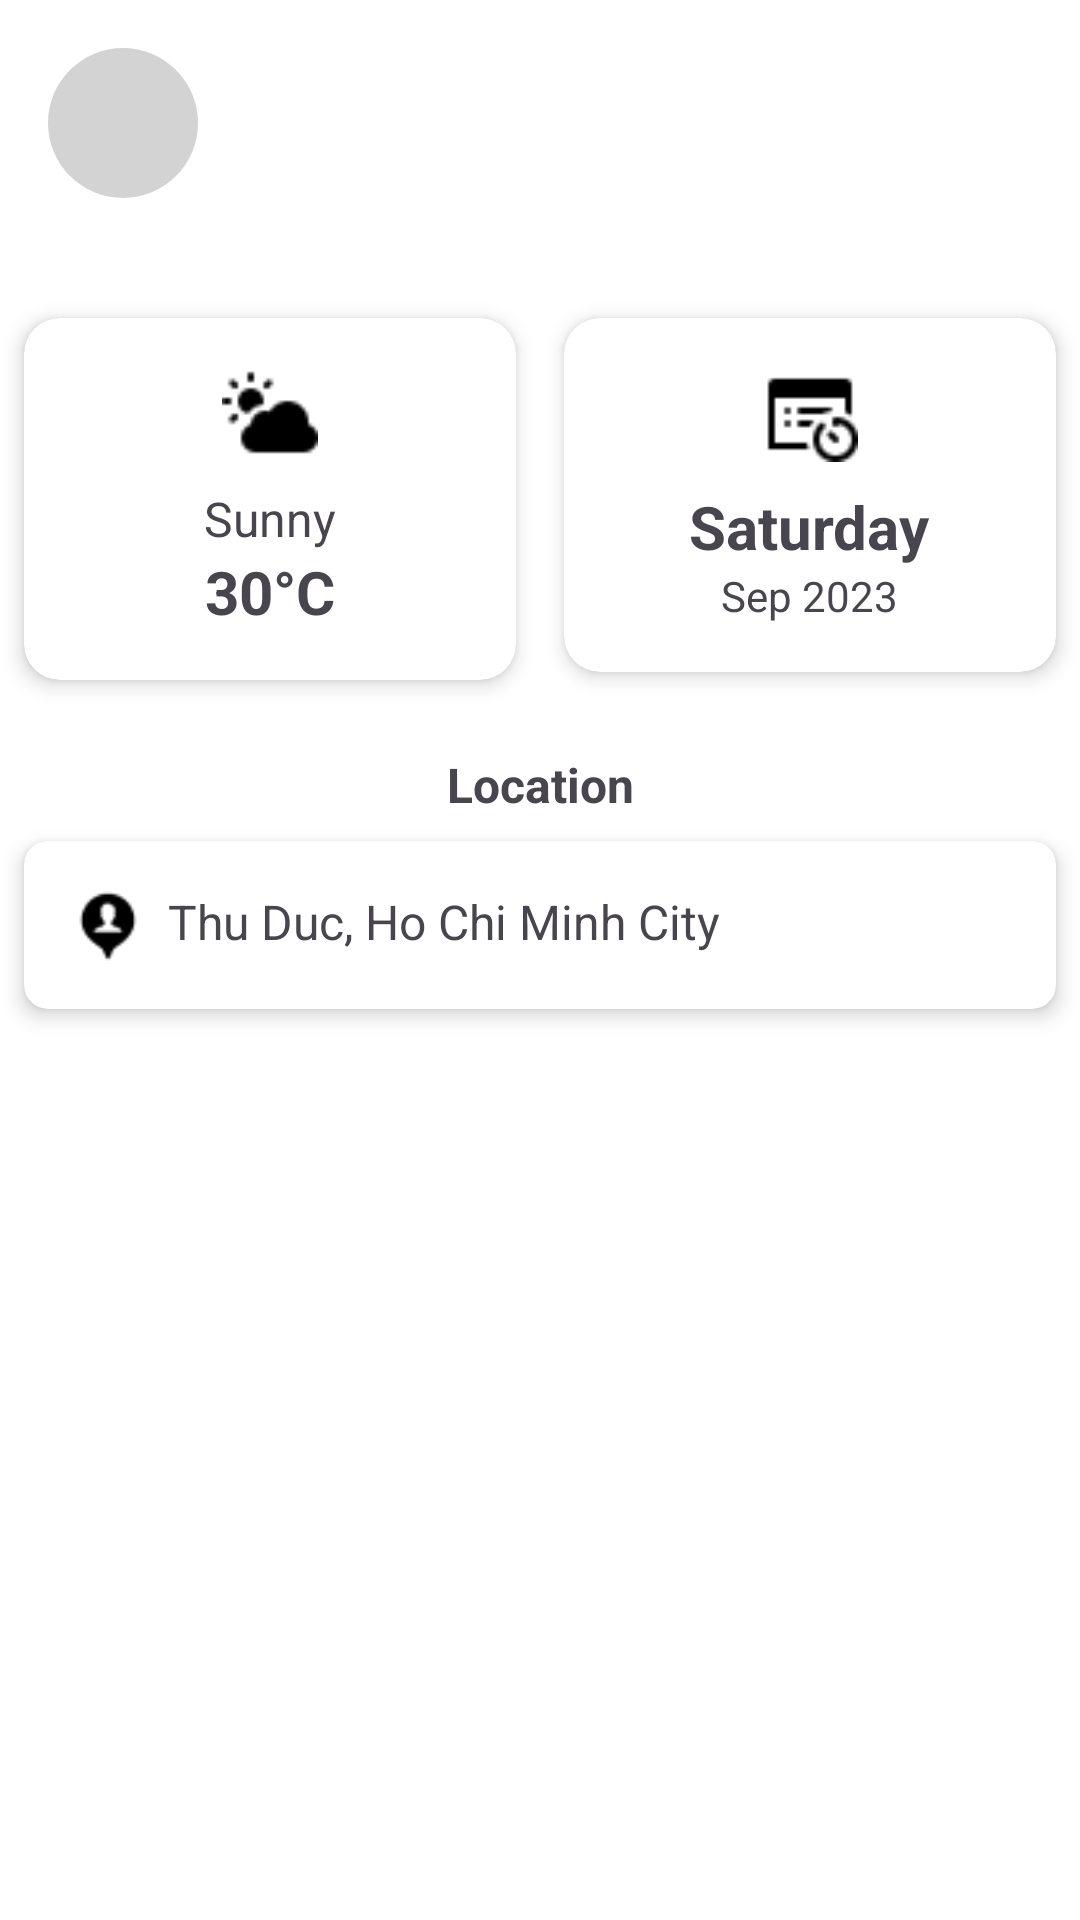

Icons on this 1080*1920 Android screen, each with its box as bbox=[x1, y1, x2, y2]:
calendar: bbox=[767, 378, 858, 462]
location: bbox=[80, 893, 136, 960]
